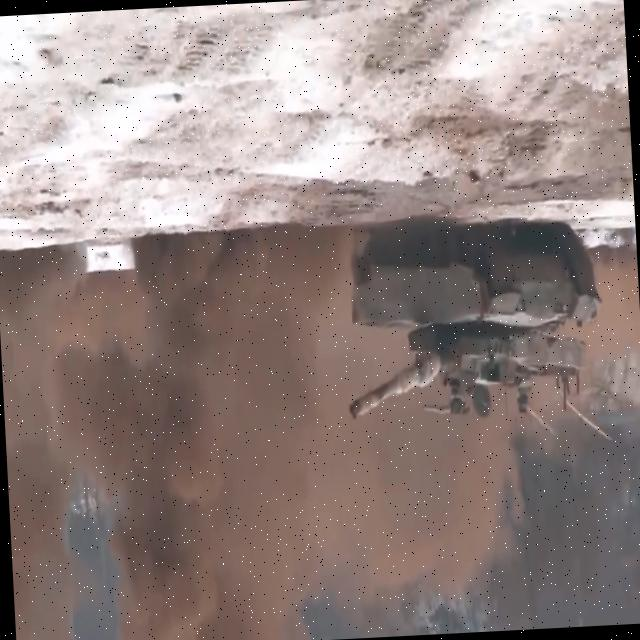korea tank: (338, 217, 610, 428)
